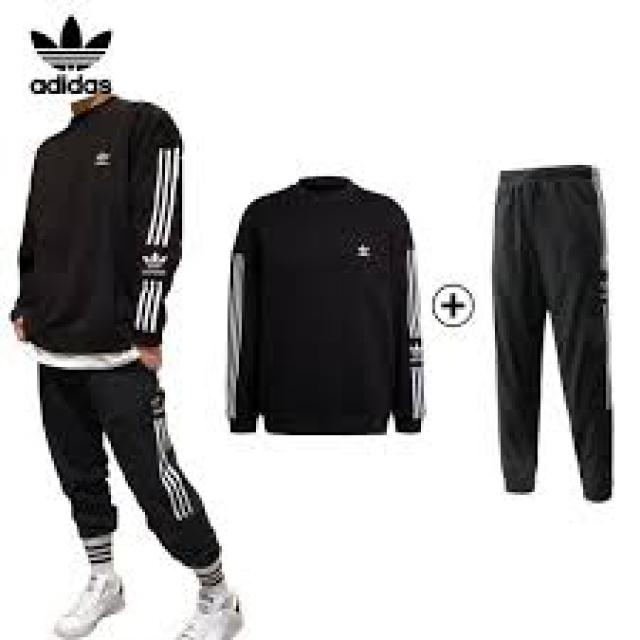long-pants: (489, 163, 616, 503), (36, 359, 222, 569)
